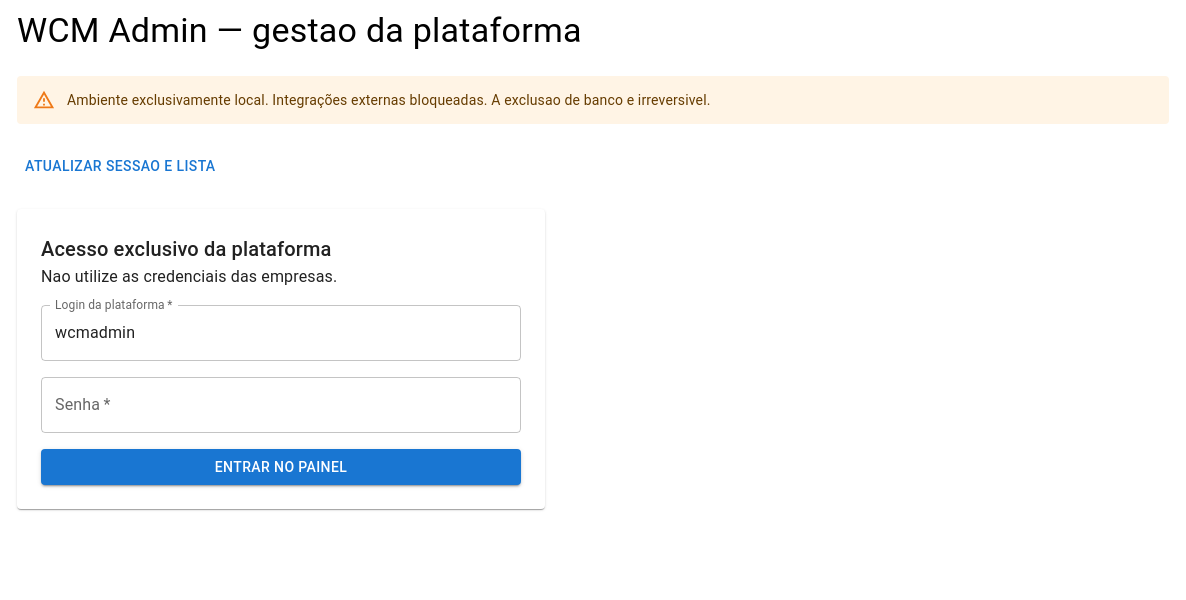
uses a separate platform login with CSRF and shows backend errors
Check: the button "Entrar no painel" is enabled, box 41,448 -> 521,485
Type "invalid" into the password field labelled "Senha *".
click(281, 404); type("invalid")  # box 41,376 -> 521,432
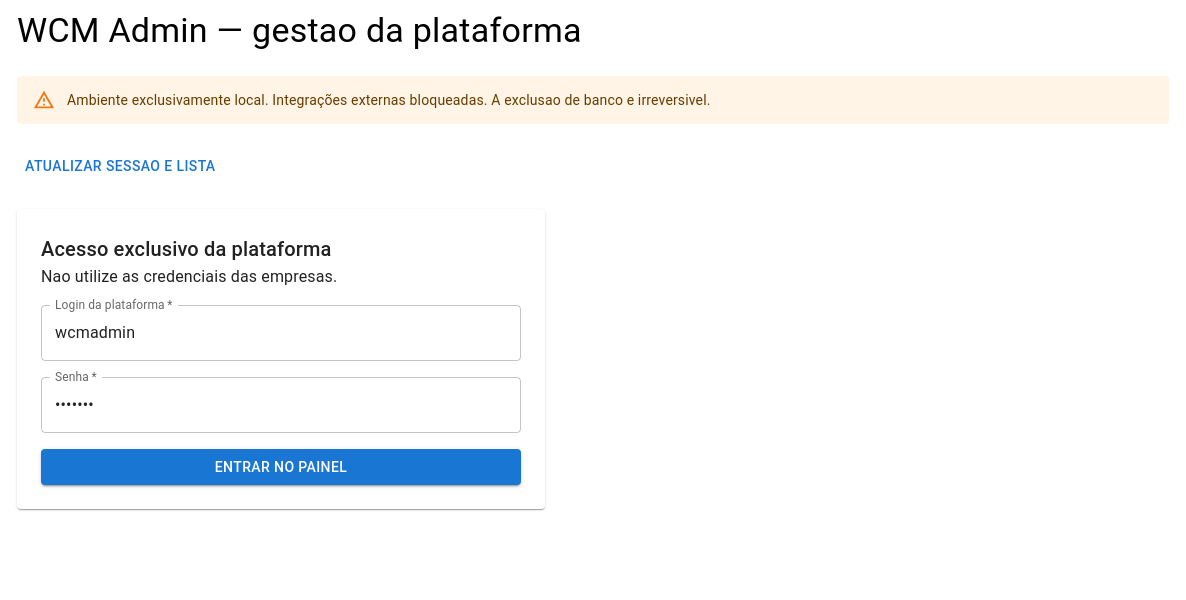
Click the button "Entrar no painel".
click(281, 467)  # box 41,448 -> 521,485
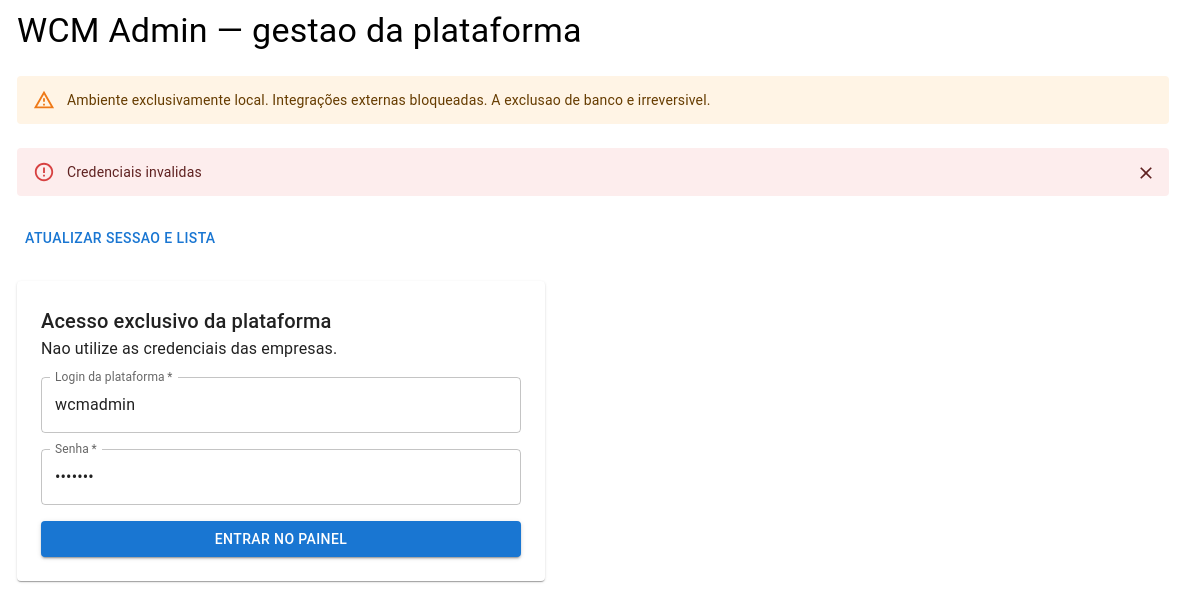
Check: the text "Credenciais invalidas" is shown, box 67,164 -> 202,180
